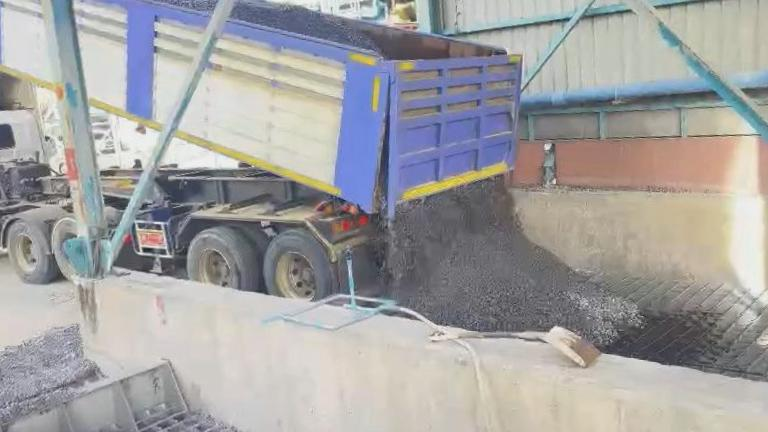gravel: (386, 176, 641, 346), (0, 325, 100, 432), (231, 0, 384, 57), (105, 0, 220, 13)
